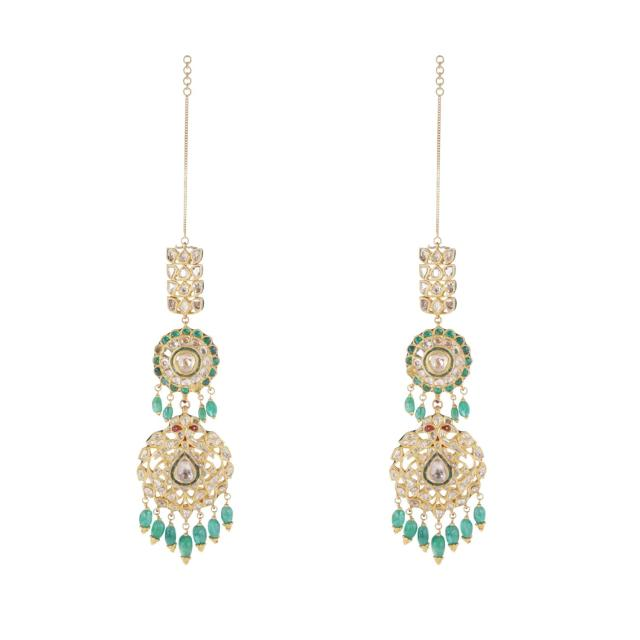missing gem: (155, 345, 163, 354), (408, 367, 415, 376), (193, 385, 201, 391)
